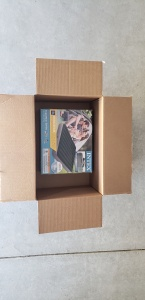innerbox: (39, 93, 101, 195)
outerbox: (1, 60, 133, 230)
product: (41, 109, 95, 175)
